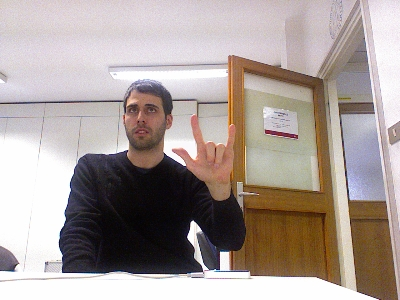我爱你: (170, 113, 235, 184)
